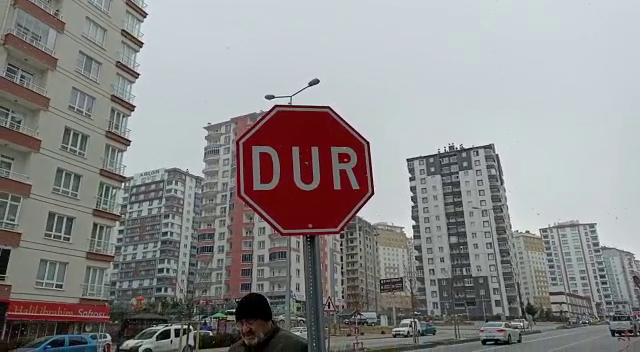stop: (234, 102, 377, 239)
